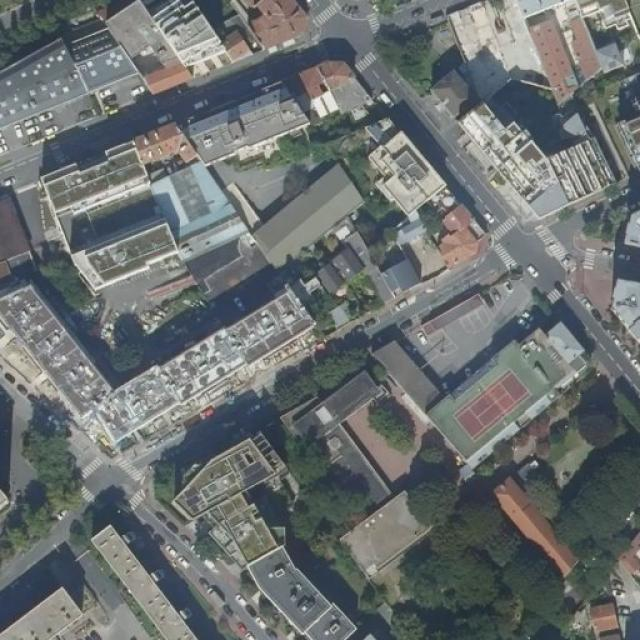immeuble: (169, 444, 362, 640), (92, 291, 314, 453), (41, 146, 173, 295), (2, 286, 112, 436), (91, 524, 201, 640), (257, 162, 352, 262), (458, 109, 549, 205), (351, 474, 438, 568), (194, 94, 297, 158), (2, 53, 80, 134), (528, 18, 602, 93), (146, 0, 225, 69), (301, 371, 376, 443), (372, 140, 441, 208), (70, 18, 130, 92), (549, 140, 608, 202)
maison: (499, 483, 576, 574), (248, 2, 309, 41), (134, 129, 200, 162), (438, 222, 483, 262), (381, 254, 416, 303), (145, 67, 194, 88), (222, 32, 252, 59), (589, 603, 618, 630)
